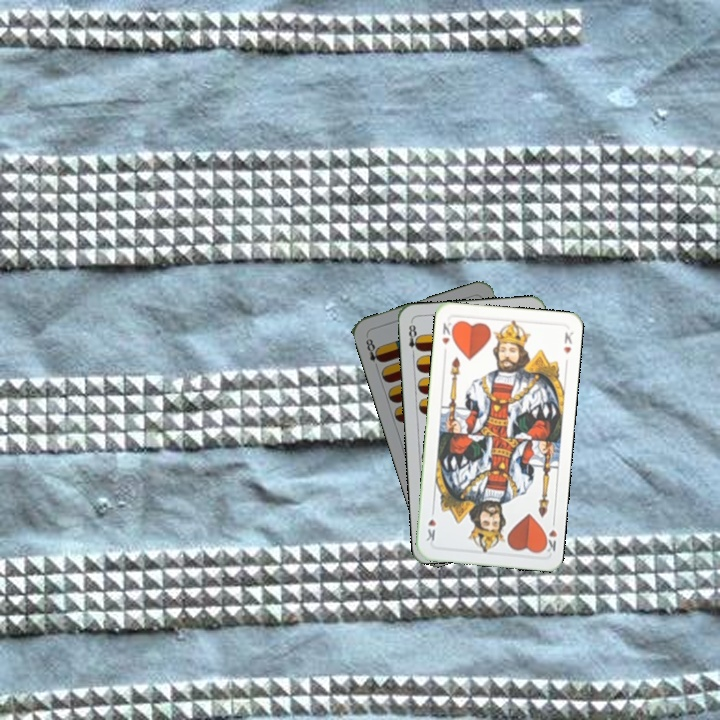E8: (362, 335, 385, 372), (405, 318, 422, 359)
HK: (539, 515, 560, 555), (438, 316, 457, 347)
